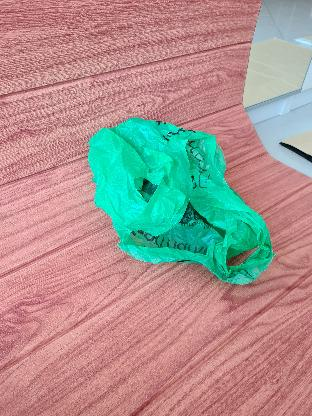Plastic Bag: (88, 113, 278, 286)
